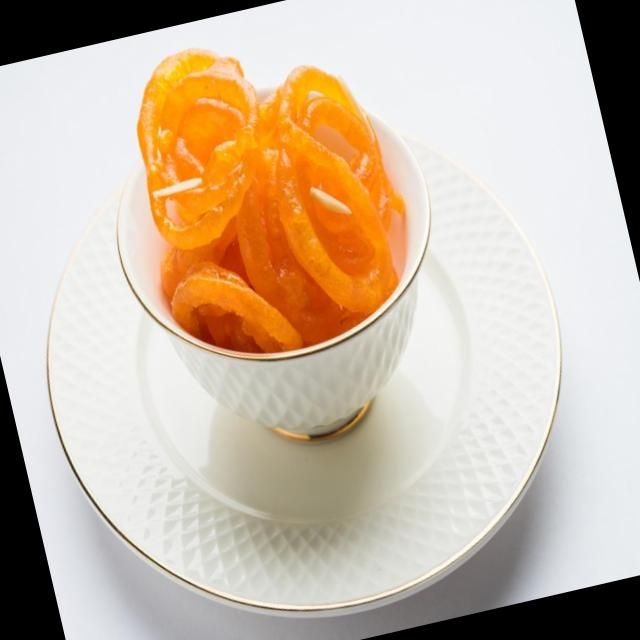jalebi: (84, 9, 450, 360)
